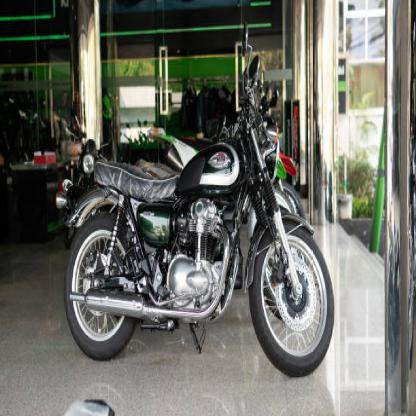Motorcycle: (55, 34, 332, 375)
